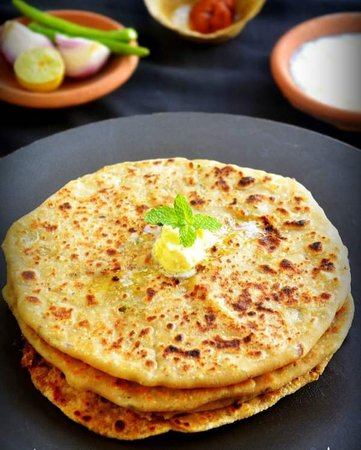aloo_paratha: (1, 157, 353, 443)
